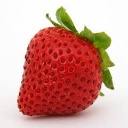strawberry: (15, 9, 115, 118)
